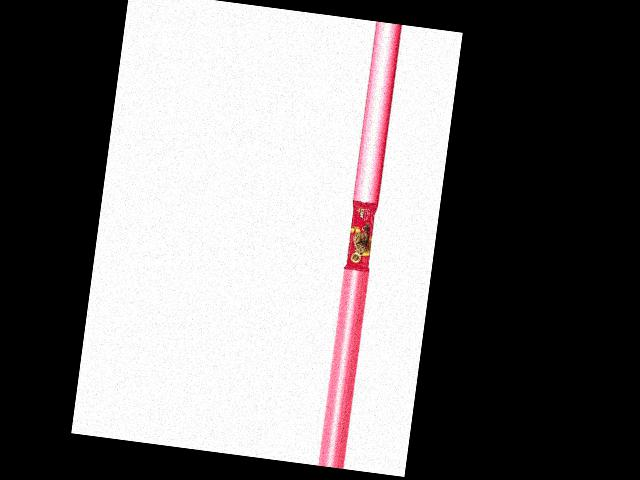chocolate: (345, 199, 380, 271)
